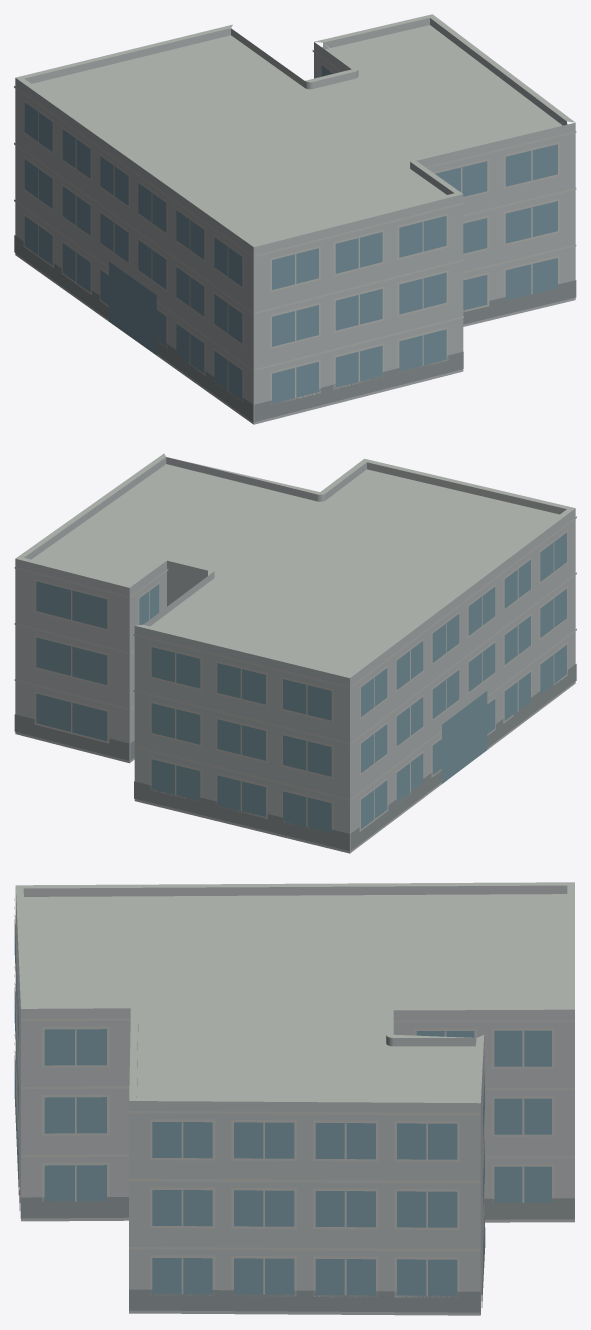
Rendered from public-dfc2002d-ae52-455c-b454-bdfe063dbf37.glb.
3 renders of one model, top to bottom at view 1: azimuth 30°, elevation 25°; view 2: azimuth 150°, elevation 25°; view 3: azimuth 270°, elevation 25°, orthographic. The views are drawn at different scales.
Visible parts, largest first — view 1: public-dfc2002d-ae52-455c-b454-bdfe063dbf37; view 2: public-dfc2002d-ae52-455c-b454-bdfe063dbf37; view 3: public-dfc2002d-ae52-455c-b454-bdfe063dbf37.
Part boxes in pixels (bbox=[...]): public-dfc2002d-ae52-455c-b454-bdfe063dbf37: bbox=[14, 14, 576, 424]; public-dfc2002d-ae52-455c-b454-bdfe063dbf37: bbox=[14, 453, 576, 853]; public-dfc2002d-ae52-455c-b454-bdfe063dbf37: bbox=[14, 882, 574, 1315].
Size of the model in its own units: 21.56 by 9.15 by 21.97.
